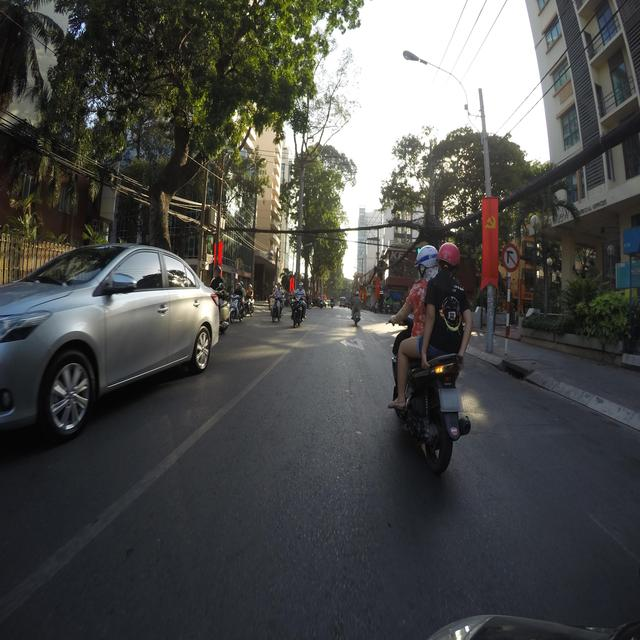Billboard: (615, 225, 639, 296), (388, 250, 416, 290), (242, 249, 273, 278)
Car: (0, 243, 219, 446), (312, 298, 319, 306)
Motorcycle: (353, 294, 470, 474), (214, 282, 286, 333), (291, 295, 312, 327)
Vegetation: (487, 131, 639, 350), (230, 162, 291, 296), (522, 246, 533, 267)
